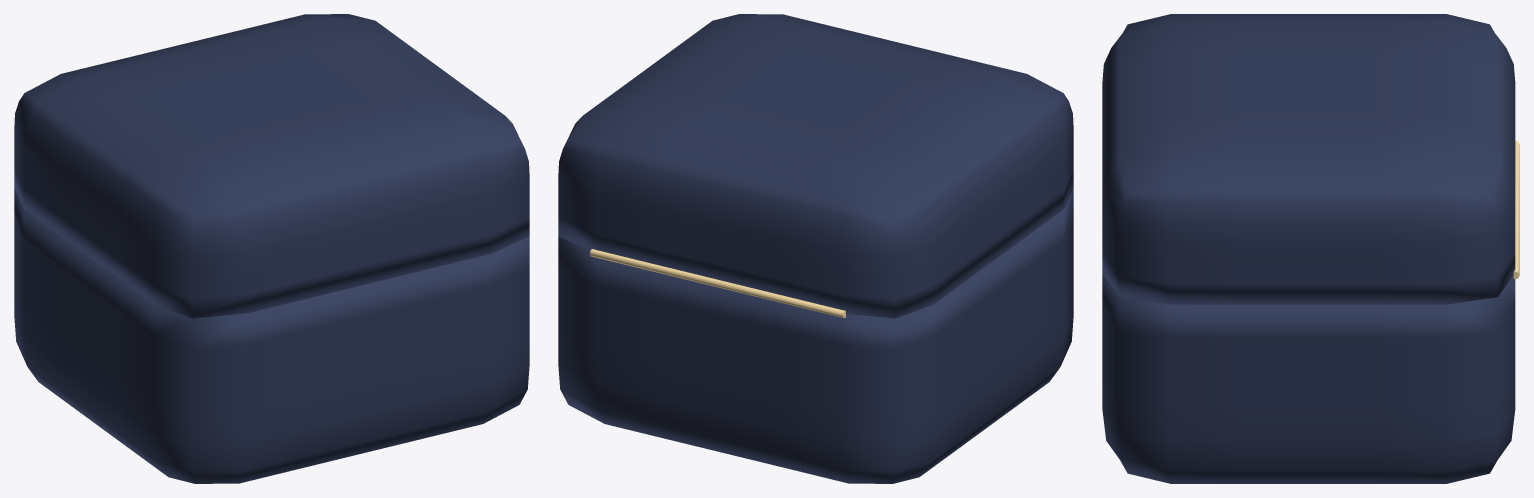
File: RingBoxClosed.obj
3 views of the same model, side by side, from view 1: azimuth 30°, elevation 25°; view 2: azimuth 150°, elevation 25°; view 3: azimuth 270°, elevation 25° (orthographic). The views are drawn at different scales.
Parts seen in each view (by area): view 1: VelvetNavy; view 2: VelvetNavy, Gold18k; view 3: VelvetNavy, Gold18k.
Boxes of the visible parts, x1,y1,x2,y2 form: VelvetNavy: [14, 14, 529, 483]; VelvetNavy: [558, 14, 1073, 483]; Gold18k: [590, 249, 845, 317]; VelvetNavy: [1102, 14, 1515, 483]; Gold18k: [1513, 140, 1519, 279].
Bounding box in the file's own units: 0.052 × 0.042 × 0.0485.
